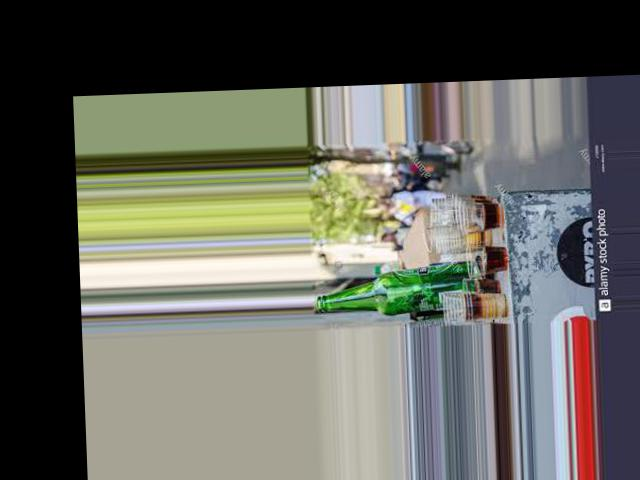beer: (316, 259, 491, 318)
